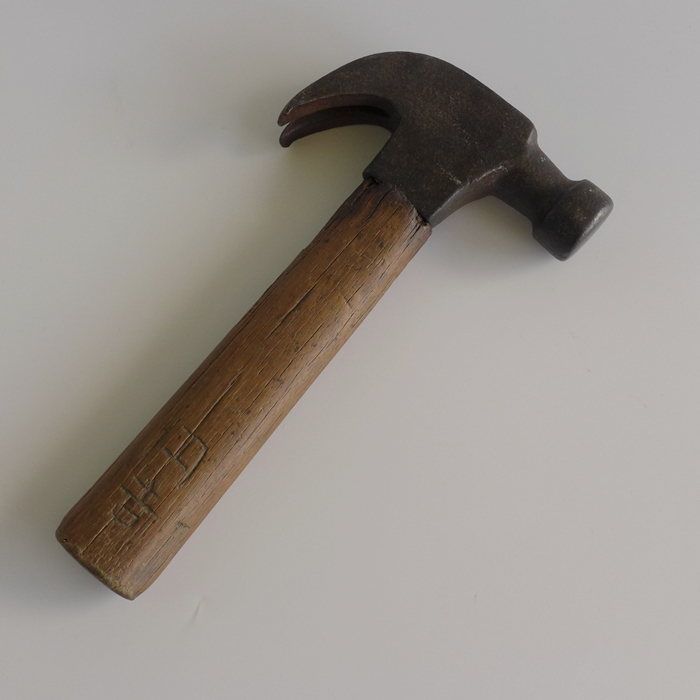hammer: (49, 46, 619, 618)
